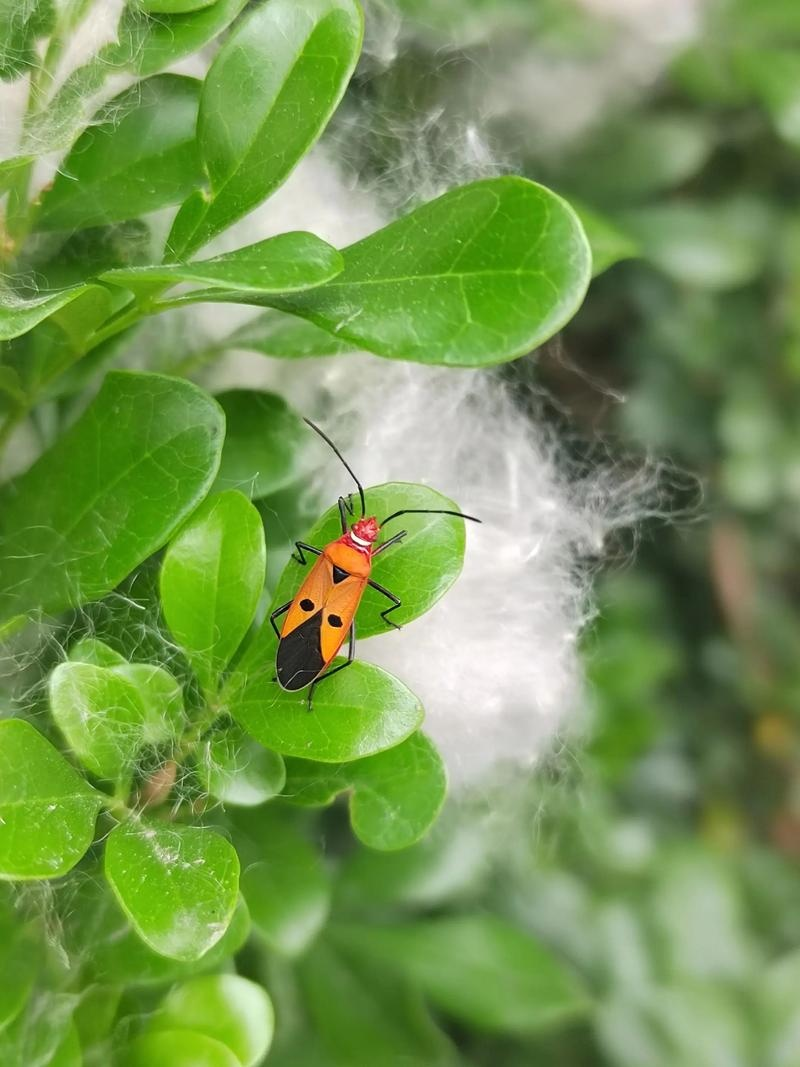Stink_Bug: (299, 450, 348, 700)
